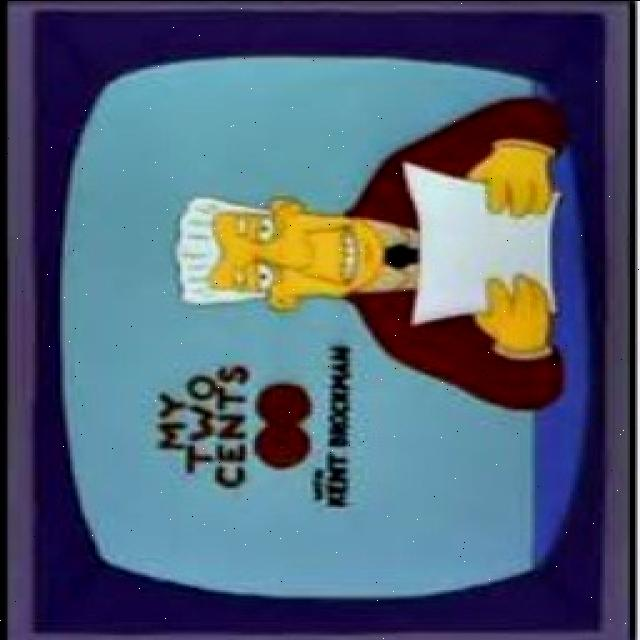Kent Brockman: (175, 196, 390, 310)
